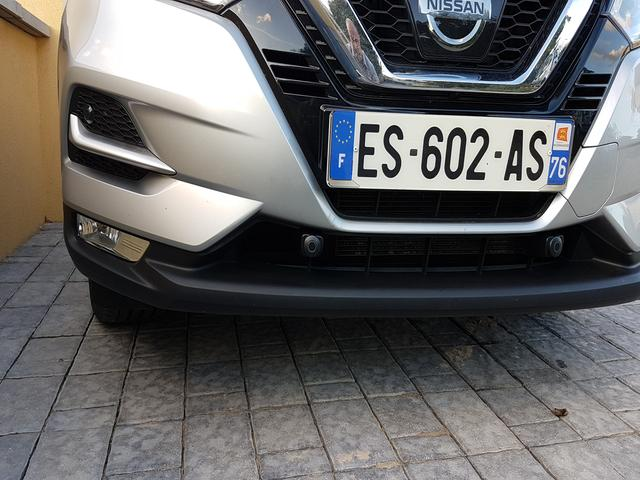Quashqai: (298, 63, 596, 207)
